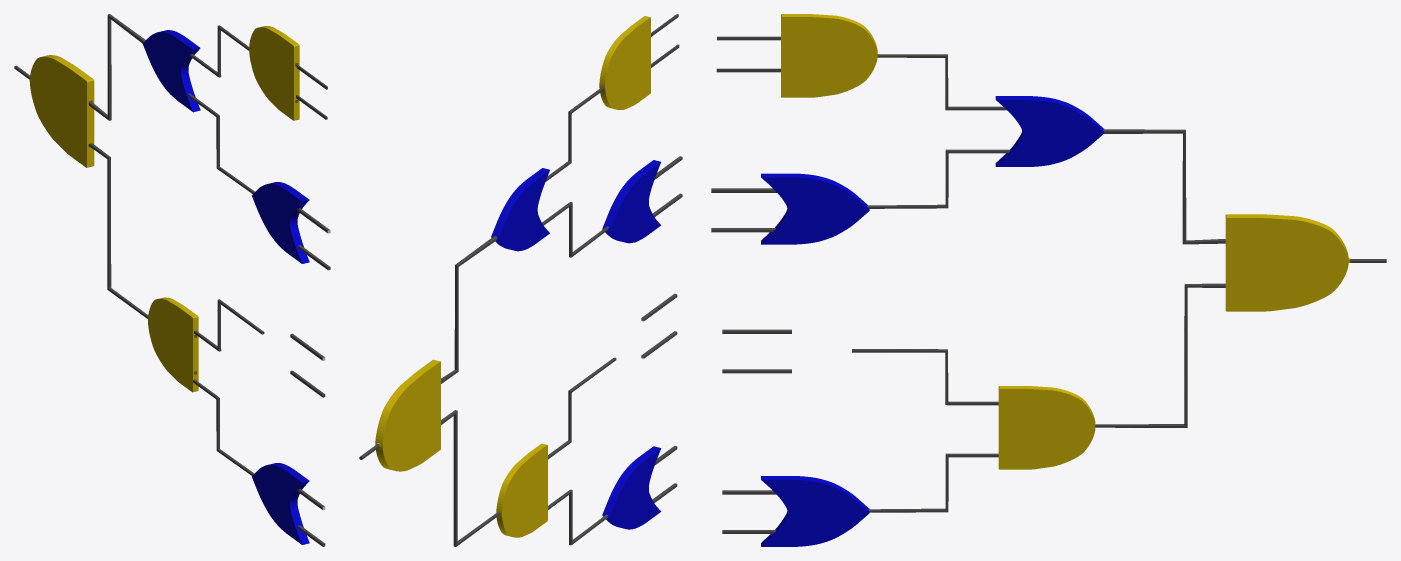
The model's file is fase3Exemplo1.fbx.
The picture shows the model from 3 angles, left to right: view 1: azimuth 30°, elevation 25°; view 2: azimuth 150°, elevation 25°; view 3: azimuth 270°, elevation 25°; orthographic projection. The views are drawn at different scales.
Visible parts, largest first — view 1: Plano.007, PortaESozinha.005, PortaESozinha, PortaOuSozinha.002, PortaOuSozinha.001, PortaOuSozinha.003, Plano.001, Plano.003, Fio.001, Plano.000, Plano.002, Fio (+1 smaller); view 2: Plano.007, PortaESozinha.005, PortaESozinha, PortaOuSozinha.003, PortaOuSozinha.002, PortaOuSozinha.001, Plano.003, Plano.001, Plano.000, Fio.001, Plano.002, Fio (+1 smaller); view 3: Plano.007, PortaESozinha.005, PortaESozinha, PortaOuSozinha.001, PortaOuSozinha.002, PortaOuSozinha.003, Plano.001, Plano.003, Plano.000, Fio.001, Plano.002.
Part boxes in pixels (x1,y1,x2,y2): Plano.007: [29, 55, 94, 167]; PortaESozinha.005: [148, 297, 198, 392]; PortaESozinha: [249, 26, 299, 120]; PortaOuSozinha.002: [143, 30, 200, 112]; PortaOuSozinha.001: [252, 182, 309, 263]; PortaOuSozinha.003: [252, 463, 309, 544]; Plano.001: [14, 14, 145, 120]; Plano.003: [88, 143, 148, 318]; Fio.001: [194, 299, 264, 351]; Plano.000: [188, 93, 254, 193]; Plano.002: [193, 379, 254, 475]; Fio: [189, 25, 248, 77]; Plano.007: [375, 359, 440, 471]; PortaESozinha.005: [496, 443, 547, 537]; PortaESozinha: [599, 16, 650, 109]; PortaOuSozinha.003: [602, 446, 661, 529]; PortaOuSozinha.002: [491, 168, 549, 251]; PortaOuSozinha.001: [602, 160, 661, 243]; Plano.003: [441, 410, 499, 546]; Plano.001: [359, 236, 498, 459]; Plano.000: [542, 202, 608, 257]; Fio.001: [548, 357, 616, 459]; Plano.002: [548, 489, 608, 545]; Fio: [545, 87, 604, 181]; Plano.007: [1225, 214, 1350, 311]; PortaESozinha.005: [998, 386, 1095, 469]; PortaESozinha: [781, 14, 877, 97]; PortaOuSozinha.001: [761, 173, 869, 244]; PortaOuSozinha.002: [995, 96, 1104, 166]; PortaOuSozinha.003: [761, 476, 869, 546]; Plano.001: [1103, 129, 1386, 262]; Plano.003: [1095, 283, 1225, 427]; Plano.000: [867, 149, 1010, 208]; Fio.001: [852, 349, 998, 405]; Plano.002: [868, 453, 998, 512].
Size of the model in its own units: 2.78 by 170 by 196.
